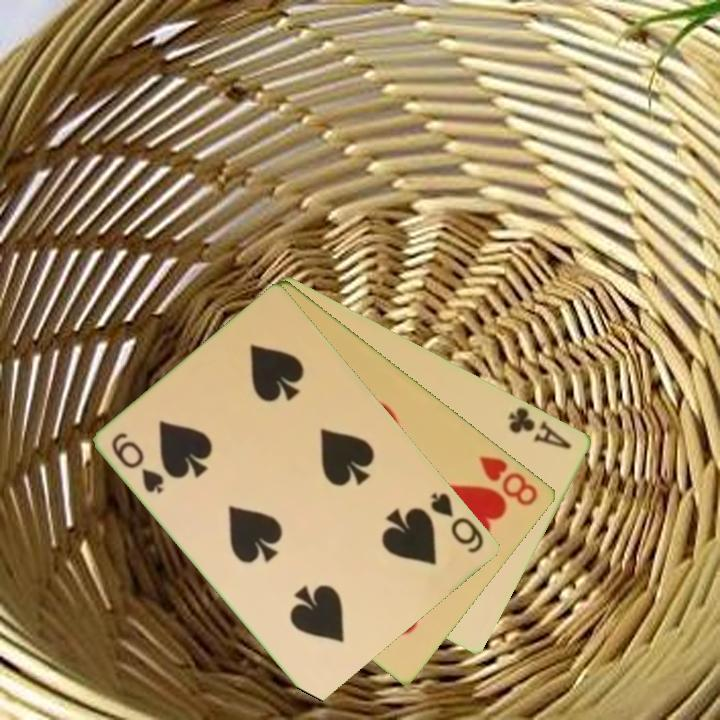6s: (427, 488, 488, 556), (108, 428, 168, 497)
8h: (476, 452, 542, 509)
Ac: (505, 403, 575, 452)
